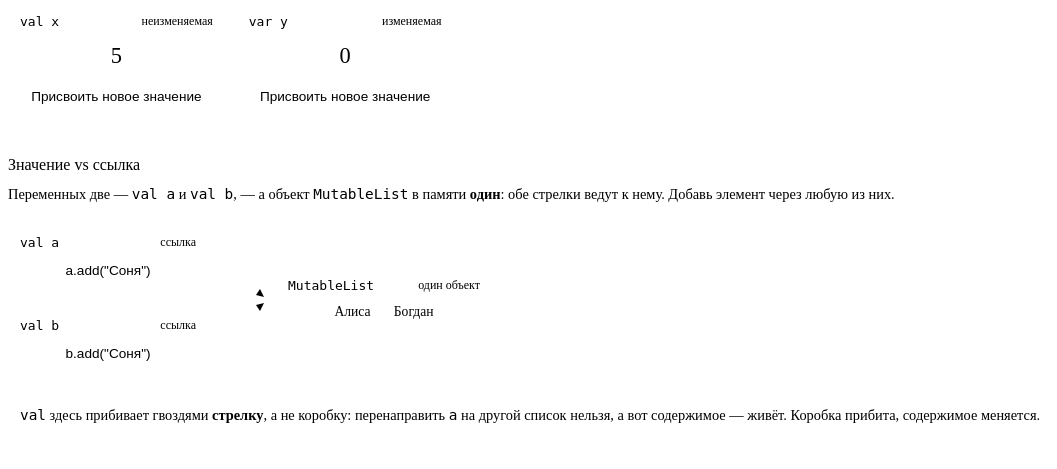
Test: add через a виден и через b: объект один, заметка объясняет почему
Step 1. Click the button "a.add(\"Соня\")" → (108, 270), box [20,258,196,282]
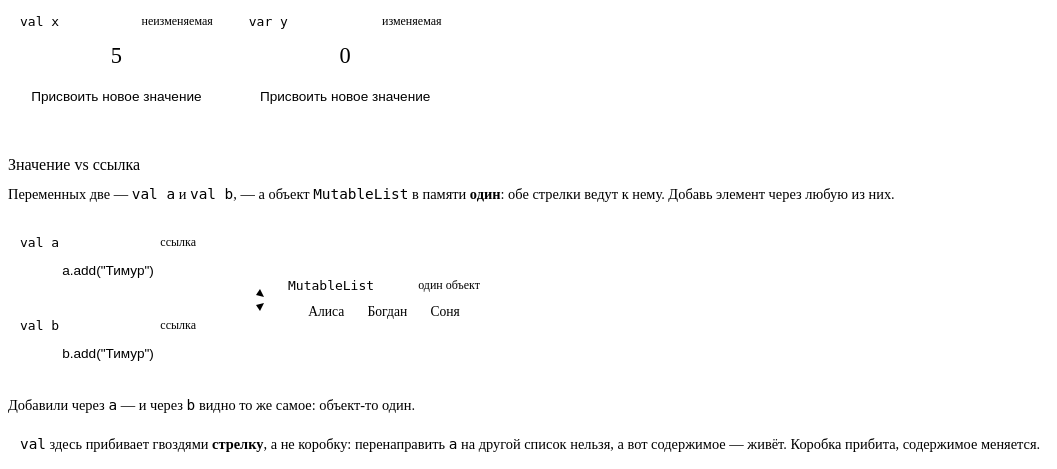
Expected: the text "Соня" is shown, [430,304,460,319]
Now the text "объект-то один" is shown, box [195,397,415,413]
// следующее имя добавляется уже через b — в тот же список
Step 2. Click the button "b.add(\"Тимур\")" → (108, 354), box [20,341,196,366]
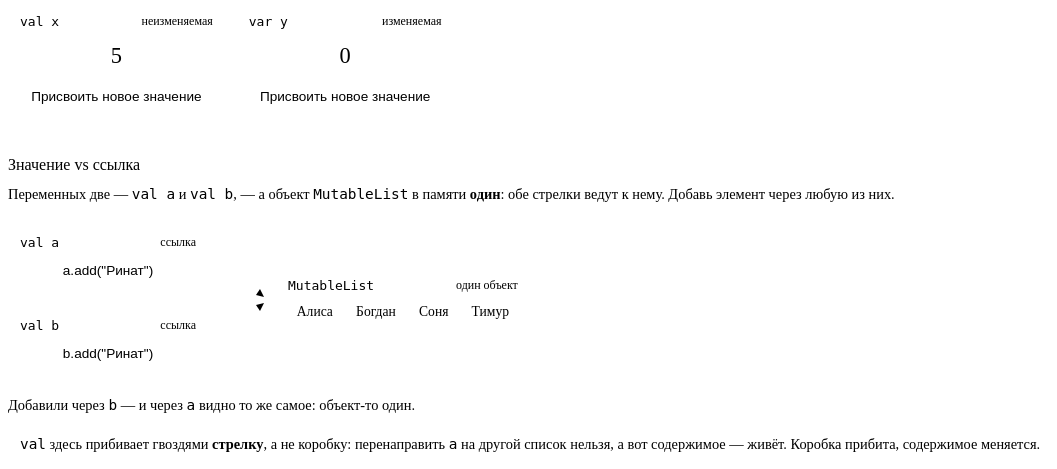
Now the text "Тимур" is shown, box [472,304,509,319]
Now the number of elements with class "mv2-item" is 4, box [297,304,333,319]; [356,304,396,319]; [419,304,448,319]; [472,304,509,319]
